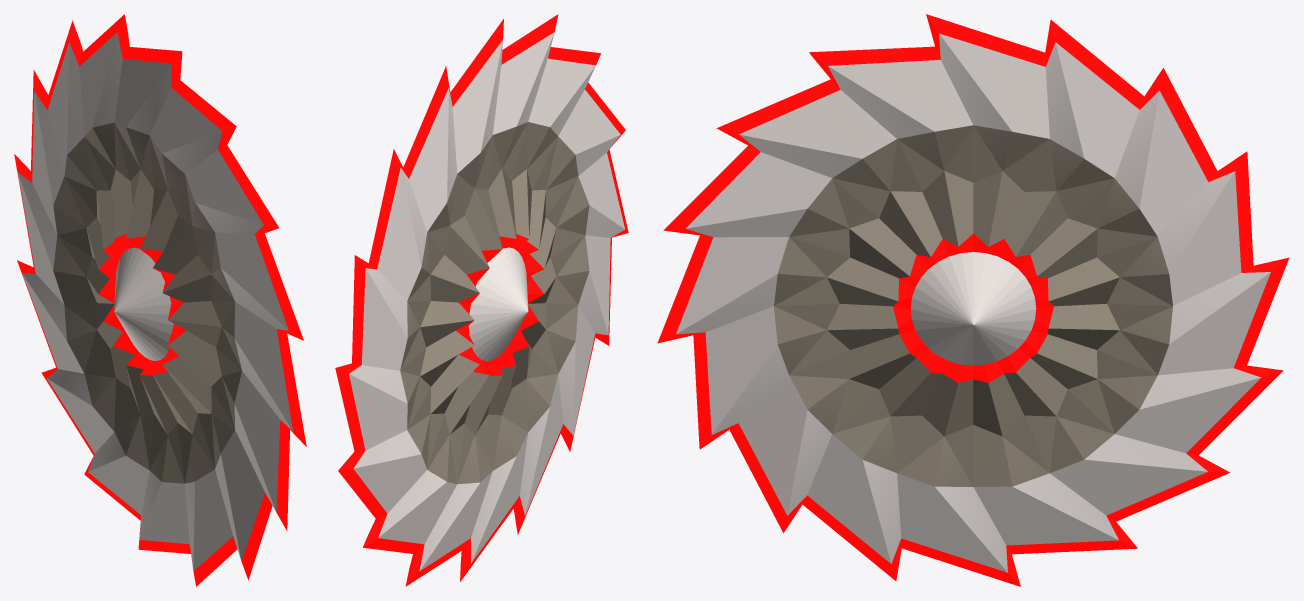
File: Saw.glb
3 views of the same model, side by side, from view 1: azimuth 30°, elevation 25°; view 2: azimuth 150°, elevation 25°; view 3: azimuth 270°, elevation 25° (orthographic). The views are drawn at different scales.
Parts seen in each view (by area): view 1: Saw; view 2: Saw; view 3: Saw.
Part boxes in pixels (x1=…): Saw: x1=14, y1=14, x2=306, y2=586; Saw: x1=335, y1=14, x2=628, y2=586; Saw: x1=657, y1=14, x2=1289, y2=586.
Size of the model in its own units: 0.7513 by 4.11 by 4.11.
